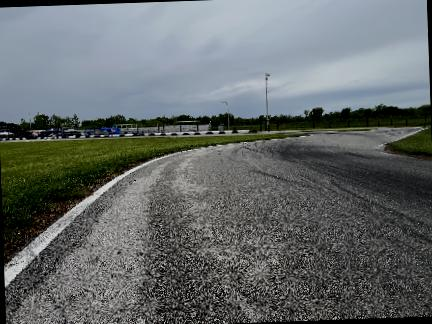Grass: (0, 135, 299, 257), (390, 128, 431, 155), (287, 128, 377, 132)
Lane: (5, 128, 431, 323)
